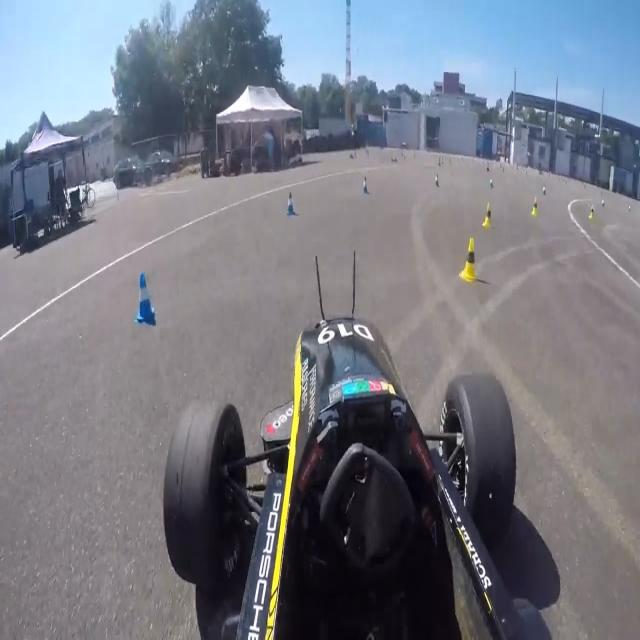blue_cone: (135, 273, 158, 325), (286, 192, 298, 218)
yellow_cone: (459, 237, 480, 284), (482, 202, 493, 228), (531, 198, 541, 218)
